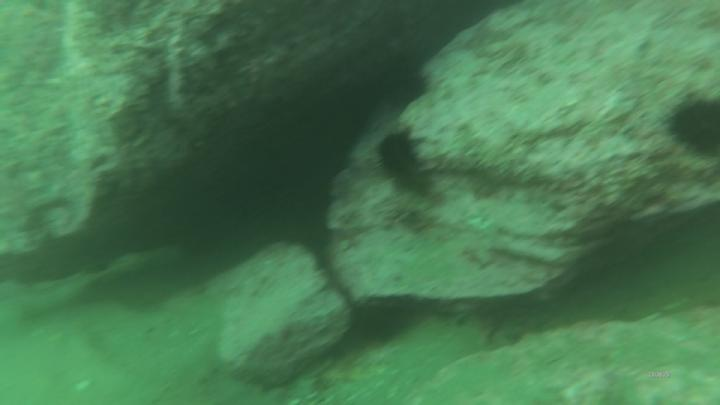echinus: (662, 92, 720, 163), (377, 128, 421, 184)
